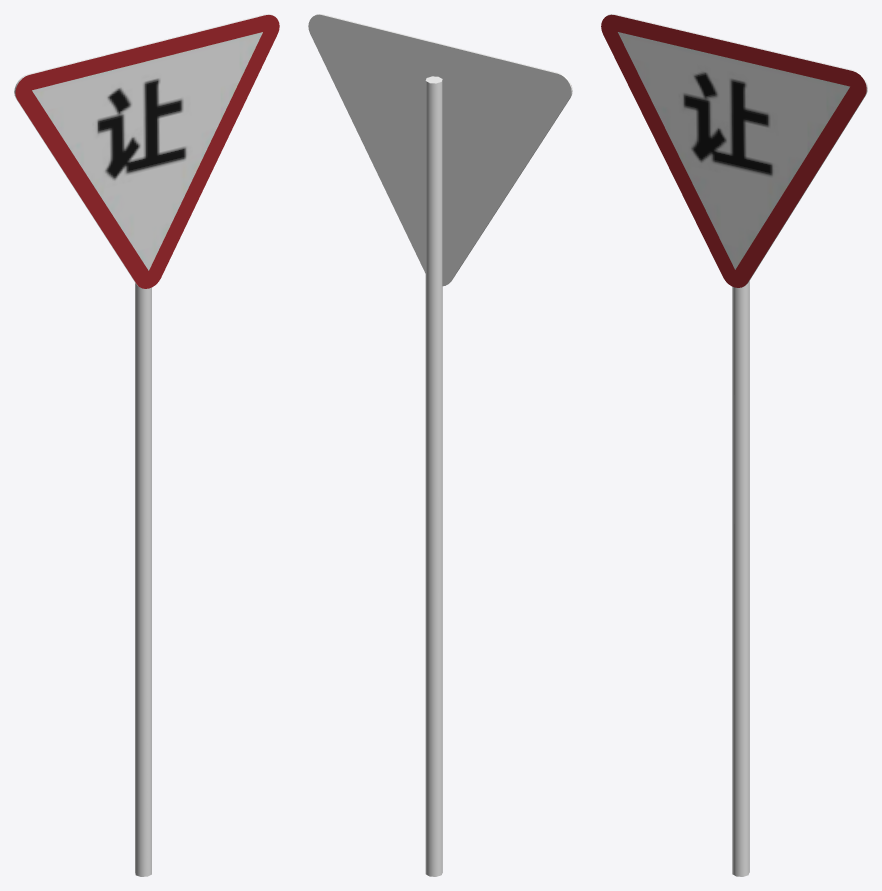
The picture shows the model from 3 angles, left to right: view 1: azimuth 30°, elevation 25°; view 2: azimuth 150°, elevation 25°; view 3: azimuth 330°, elevation 25°; orthographic projection.
Parts seen in each view (by area): view 1: W11; view 2: W11; view 3: W11.
Part boxes in pixels (box(x1,y1,x2,y2)): W11: box(14, 14, 279, 876); W11: box(308, 14, 572, 876); W11: box(601, 14, 867, 876).
Bounding box in the file's own units: 5.68 × 17.08 × 0.3789.
Materials: 4 (1 with a texture image).
